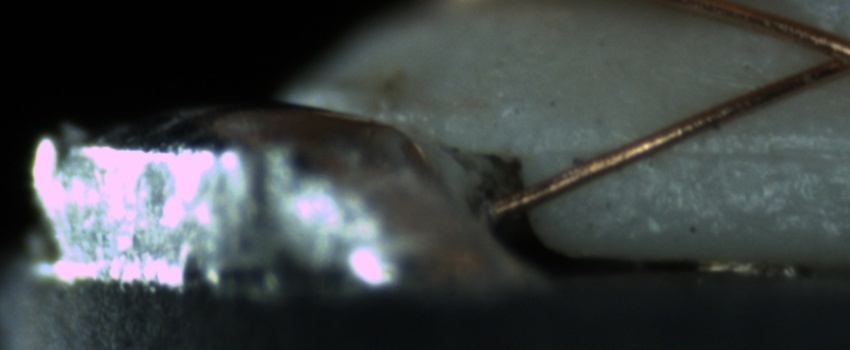CL: (794, 26, 850, 85)
DL: (564, 119, 848, 180)
